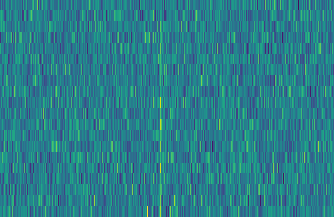signal: (155, 0, 164, 217)
